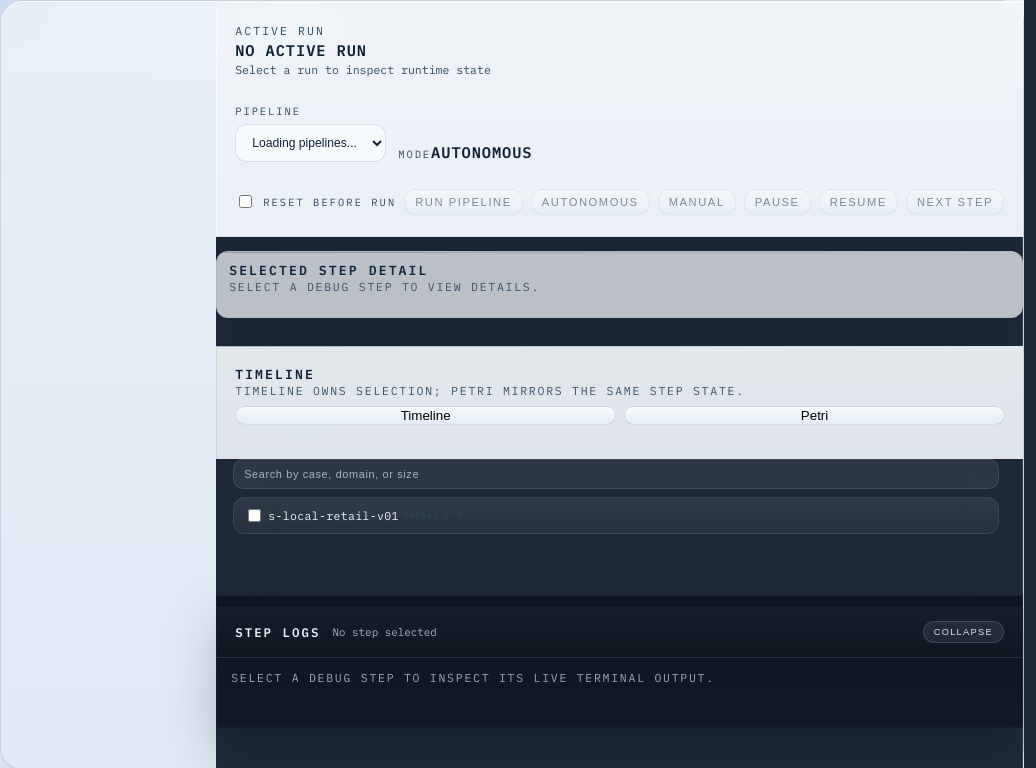
Scenario: shows debug stream loading immediately after run starts
Click the checkbox labelled "s-local-retail-v01 retail / s".
click(255, 515)  # box [248, 509, 261, 522]
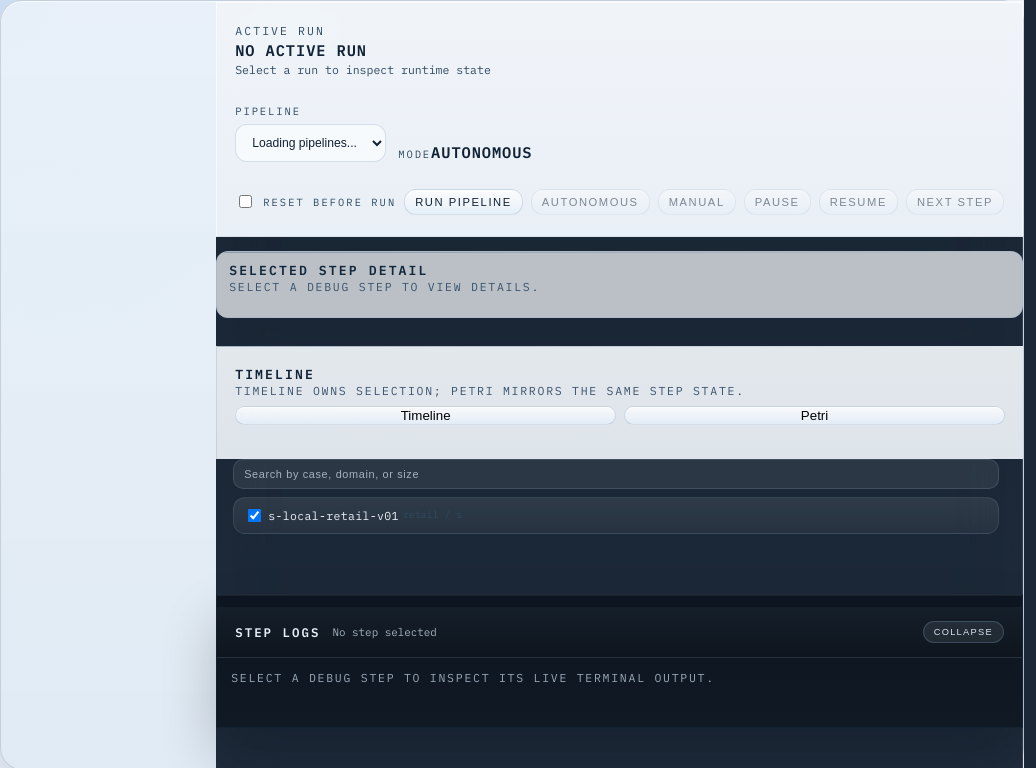
Click the button "Run Pipeline".
click(463, 202)  # box [404, 189, 523, 215]
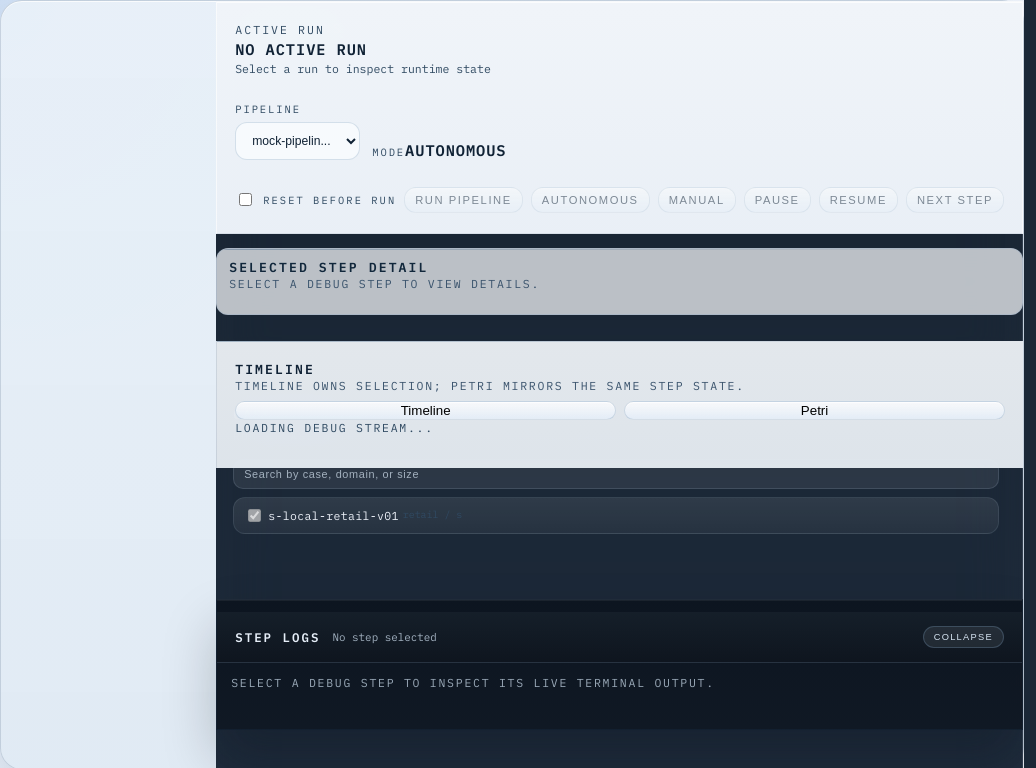
Now the text "Loading debug stream..." is shown, box [235, 420, 434, 435]
